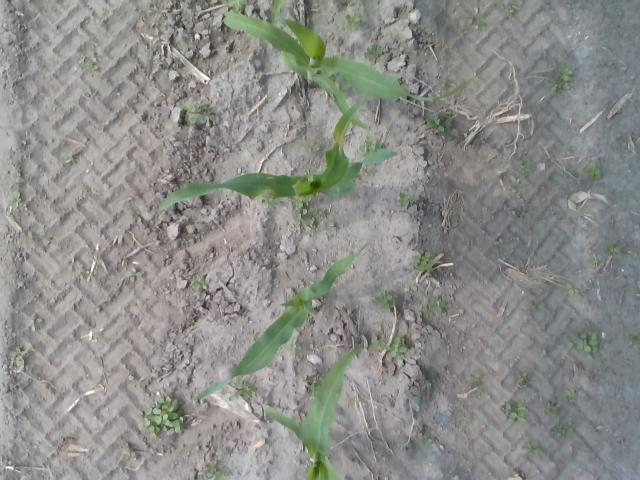Maize: (186, 241, 370, 406), (223, 12, 472, 129), (159, 103, 396, 210), (261, 344, 363, 480), (270, 0, 285, 14)
Weeds: (141, 398, 184, 436), (425, 112, 452, 134), (373, 292, 398, 312), (552, 68, 572, 92), (576, 331, 596, 355), (205, 461, 230, 480), (502, 405, 530, 421), (388, 338, 408, 358), (414, 252, 434, 272), (464, 16, 486, 34), (230, 384, 254, 400), (550, 424, 574, 438), (429, 294, 445, 313), (184, 103, 210, 114), (360, 136, 377, 152), (366, 44, 382, 61), (294, 200, 306, 220), (519, 154, 532, 172), (585, 166, 601, 180), (400, 190, 414, 206), (187, 115, 202, 129), (407, 389, 421, 404), (192, 278, 209, 290), (525, 440, 539, 454), (606, 242, 621, 255), (566, 388, 578, 404), (128, 269, 142, 282), (373, 340, 388, 352), (629, 331, 639, 348), (288, 340, 302, 352), (128, 211, 142, 223), (122, 446, 136, 458), (512, 206, 526, 218), (516, 372, 530, 384), (547, 400, 561, 412), (13, 191, 22, 209), (228, 0, 244, 10), (530, 299, 544, 310), (306, 375, 316, 390), (472, 375, 485, 386), (304, 142, 318, 152), (346, 12, 360, 22), (90, 57, 98, 73), (568, 282, 578, 294), (79, 269, 91, 279), (511, 175, 522, 185), (315, 206, 325, 216), (305, 216, 315, 226), (420, 438, 431, 446), (12, 348, 26, 354), (507, 5, 517, 13), (362, 166, 370, 175)
